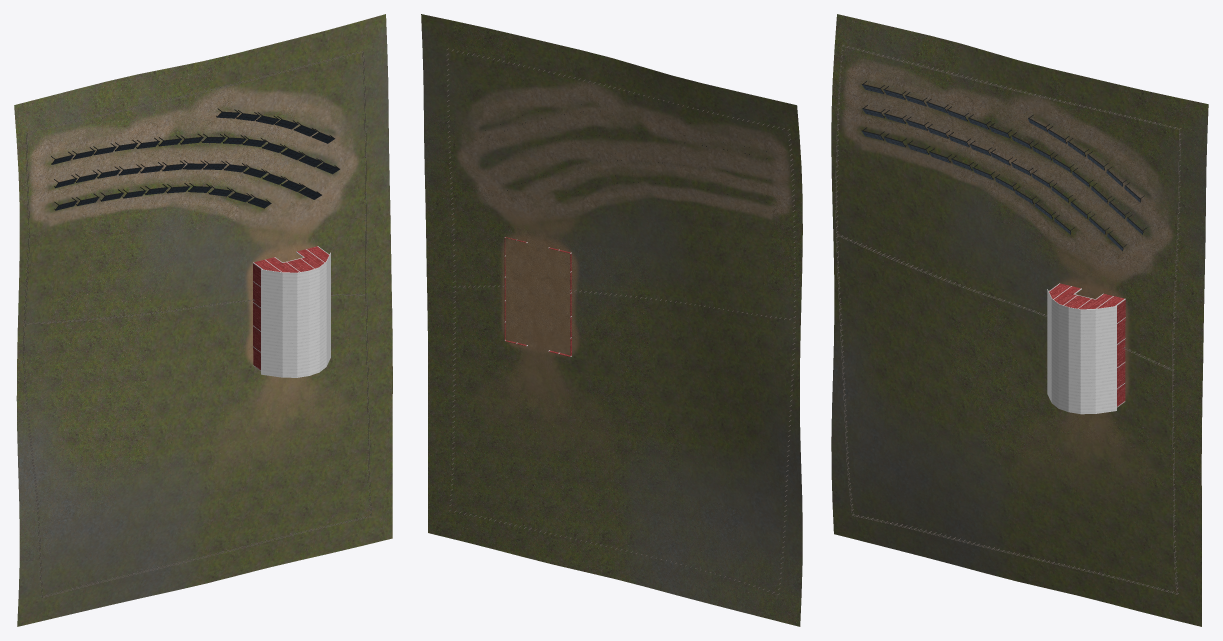
3 renders of one model, left to right at view 1: azimuth 30°, elevation 25°; view 2: azimuth 150°, elevation 25°; view 3: azimuth 330°, elevation 25°, orthographic.
Visible parts, largest first — view 1: Ground_Plane.001, Barn.001_Cube.089, Barn_Cube.001, Cube.020_Cube.043, Cube.019_Cube.042, Cube.004_Cube.038, Cube.018_Cube.041; view 2: Ground_Plane.001, Barn_Cube.001; view 3: Ground_Plane.001, Barn.001_Cube.089, Barn_Cube.001, Cube.020_Cube.043, Cube.019_Cube.042, Cube.004_Cube.038, Cube.018_Cube.041.
Part boxes in pixels (x1,y1,x2,y2): Ground_Plane.001: [14, 14, 392, 626]; Barn.001_Cube.089: [261, 252, 330, 377]; Barn_Cube.001: [253, 246, 329, 370]; Cube.020_Cube.043: [23, 131, 42, 597]; Cube.019_Cube.042: [362, 52, 372, 516]; Cube.004_Cube.038: [27, 51, 363, 132]; Cube.018_Cube.041: [40, 516, 371, 597]; Ground_Plane.001: [421, 14, 802, 626]; Barn_Cube.001: [504, 237, 571, 356]; Ground_Plane.001: [831, 14, 1208, 626]; Barn.001_Cube.089: [1047, 289, 1116, 414]; Barn_Cube.001: [1049, 283, 1125, 406]; Cube.020_Cube.043: [835, 45, 853, 515]; Cube.019_Cube.042: [1172, 130, 1180, 594]; Cube.004_Cube.038: [842, 45, 1181, 129]; Cube.018_Cube.041: [852, 514, 1177, 594].
Bounding box in the file's own units: 120 × 160 × 18.18.
Materials: 6 (6 with a texture image).
